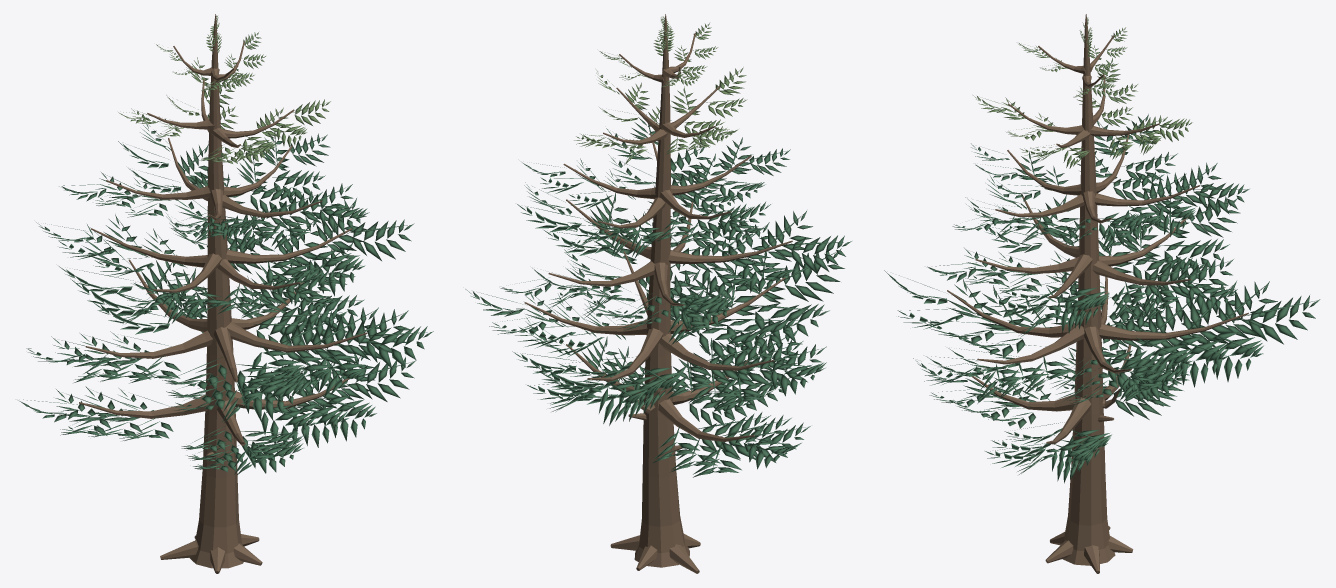
Rendered from conifer-tree.glb.
3 renders of one model, left to right at view 1: azimuth 30°, elevation 25°; view 2: azimuth 150°, elevation 25°; view 3: azimuth 270°, elevation 25°, orthographic.
Parts seen in each view (by area): view 1: Conifer | clustered narrow needle-bearing shoots, Conifer | editable woody axis boughs and collars; view 2: Conifer | clustered narrow needle-bearing shoots, Conifer | editable woody axis boughs and collars; view 3: Conifer | clustered narrow needle-bearing shoots, Conifer | editable woody axis boughs and collars.
Part boxes in pixels (box(x1,y1,x2,y2)): Conifer | clustered narrow needle-bearing shoots: box(18, 16, 433, 475); Conifer | editable woody axis boughs and collars: box(79, 14, 367, 573); Conifer | clustered narrow needle-bearing shoots: box(465, 16, 851, 477); Conifer | editable woody axis boughs and collars: box(524, 14, 792, 573); Conifer | clustered narrow needle-bearing shoots: box(884, 17, 1320, 483); Conifer | editable woody axis boughs and collars: box(947, 14, 1248, 573).
Size of the model in its own units: 4.7 by 7.04 by 5.22.
